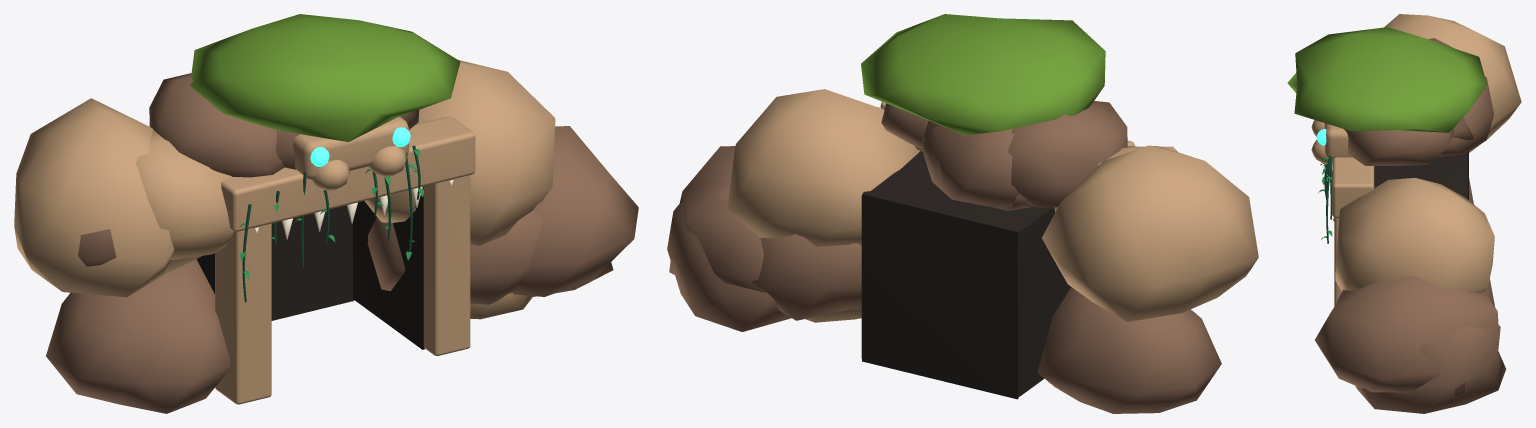
File: jungle_tunnel_mouth.glb
3 views of the same model, side by side, from view 1: azimuth 30°, elevation 25°; view 2: azimuth 150°, elevation 25°; view 3: azimuth 270°, elevation 25° (orthographic). The views are drawn at different scales.
Visible parts, largest first — view 1: TunnelMouth; view 2: TunnelMouth; view 3: TunnelMouth.
Part boxes in pixels (x1,y1,x2,y2): TunnelMouth: (14, 14, 638, 413); TunnelMouth: (667, 14, 1258, 413); TunnelMouth: (1287, 14, 1521, 413).
Size of the model in its own units: 14.9 by 7.67 by 6.15.
